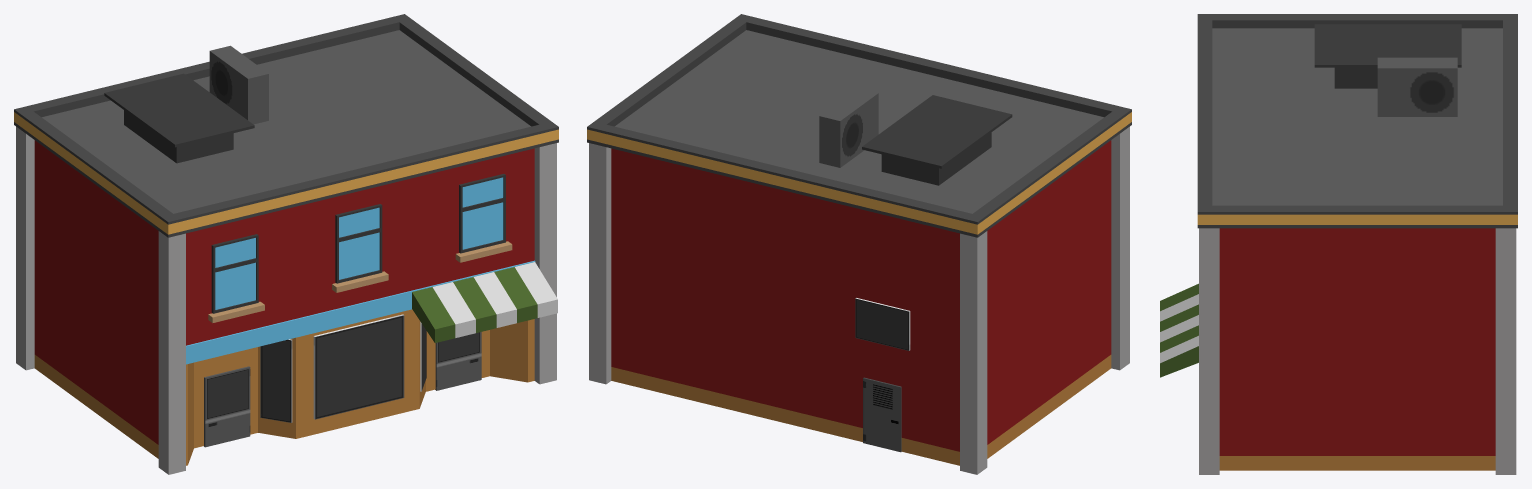
The model's file is shop 3.FBX.
3 renders of one model, left to right at view 1: azimuth 30°, elevation 25°; view 2: azimuth 150°, elevation 25°; view 3: azimuth 270°, elevation 25°, orthographic. The views are drawn at different scales.
Visible parts, largest first — view 1: polySurface5; view 2: polySurface5; view 3: polySurface5.
Boxes of the visible parts, <box> form: polySurface5: <box>14,14,558,474</box>; polySurface5: <box>587,14,1131,474</box>; polySurface5: <box>1160,14,1517,474</box>.
Bounding box in the file's own units: 241 × 173 × 184.
1 material, 1 textured.
